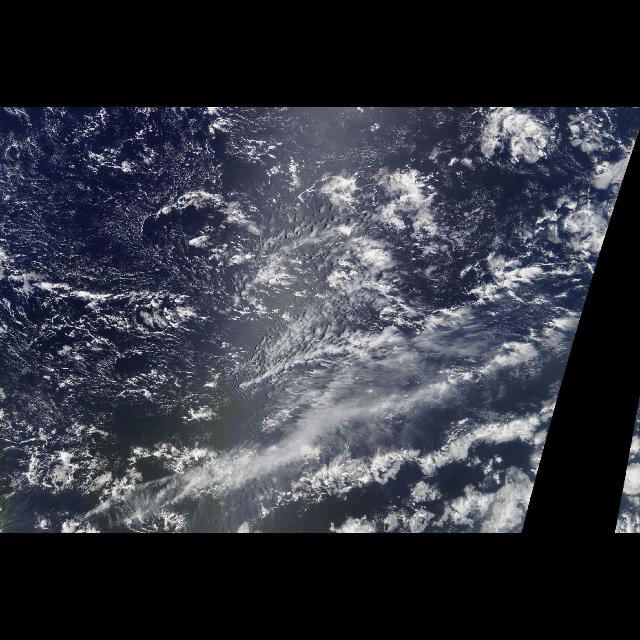Gravel: (10, 127, 290, 429)
Sugar: (4, 108, 272, 314)
